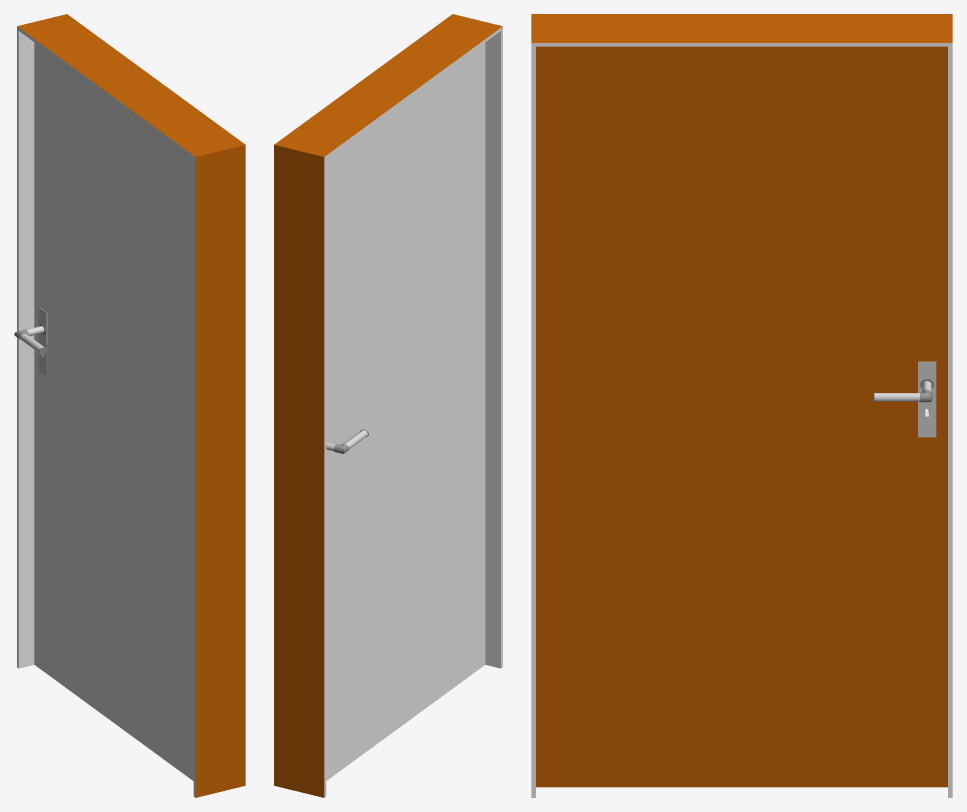
File: 6k_front_door.fbx
The picture shows the model from 3 angles, left to right: view 1: azimuth 30°, elevation 25°; view 2: azimuth 150°, elevation 25°; view 3: azimuth 270°, elevation 25°; orthographic projection. The views are drawn at different scales.
Parts seen in each view (by area): view 1: Door_1, Door1; view 2: Door_1, Door1; view 3: Door_1, Door1.
Boxes of the visible parts, x1,y1,x2,y2 form: Door_1: (14,42,193,780); Door1: (17,14,245,797); Door_1: (326,42,485,780); Door1: (274,14,502,797); Door_1: (536,46,947,787); Door1: (531,14,952,797).
Size of the model in its own units: 10.28 by 90 by 45.49.
